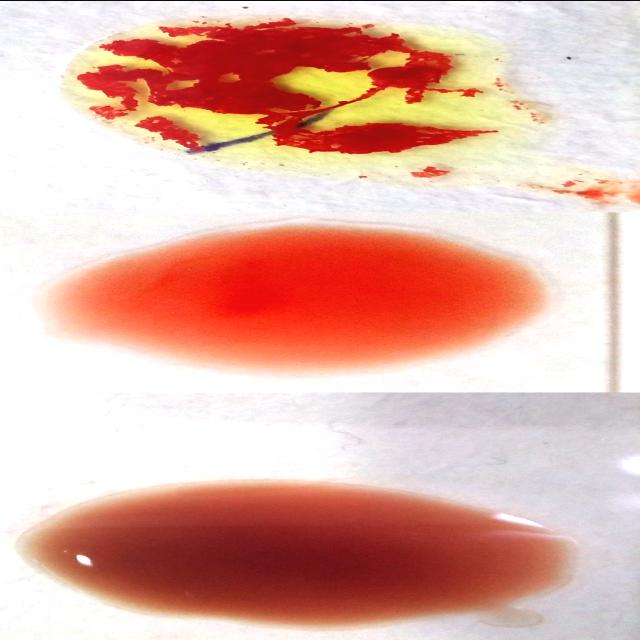B: (53, 16, 537, 164)
